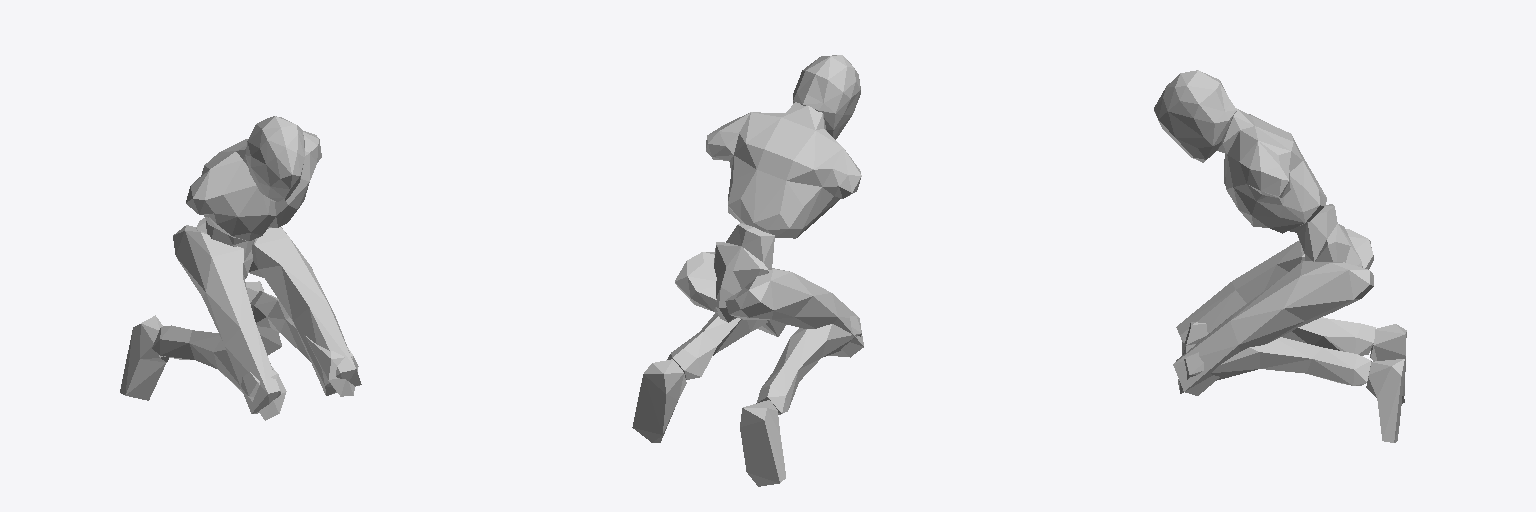
The model's file is filth52.obj.
3 renders of one model, left to right at view 1: azimuth 30°, elevation 25°; view 2: azimuth 150°, elevation 25°; view 3: azimuth 270°, elevation 25°, orthographic.
Visible parts, largest first — view 1: Melee_Husk; view 2: Melee_Husk; view 3: Melee_Husk.
Part boxes in pixels (left/top/right/bottom): Melee_Husk: left=120, top=116, right=361, bottom=420; Melee_Husk: left=632, top=55, right=863, bottom=486; Melee_Husk: left=1154, top=70, right=1406, bottom=442.
Bounding box in the file's own units: 22.73 × 48.47 × 31.75.